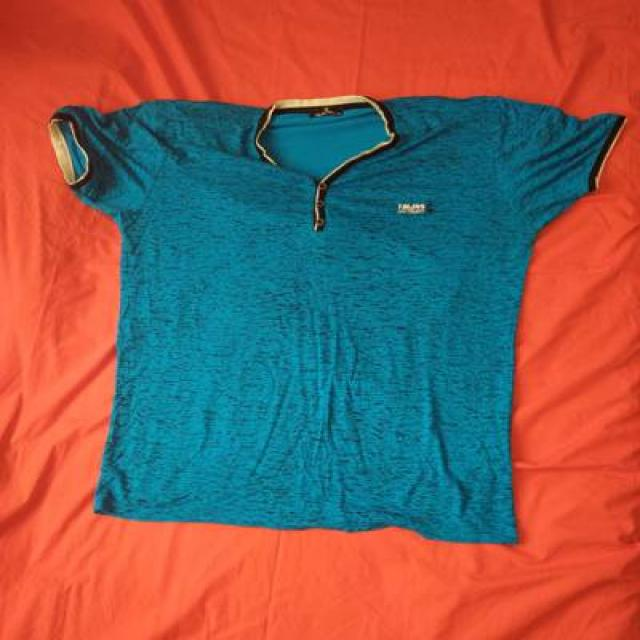Clothes -Biodegradable-: (53, 96, 626, 541)
